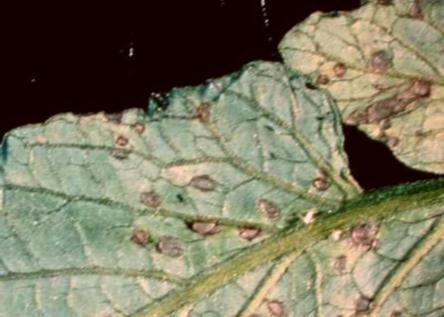Tomato Septoria leaf spot: (0, 26, 444, 317), (276, 0, 444, 173)
